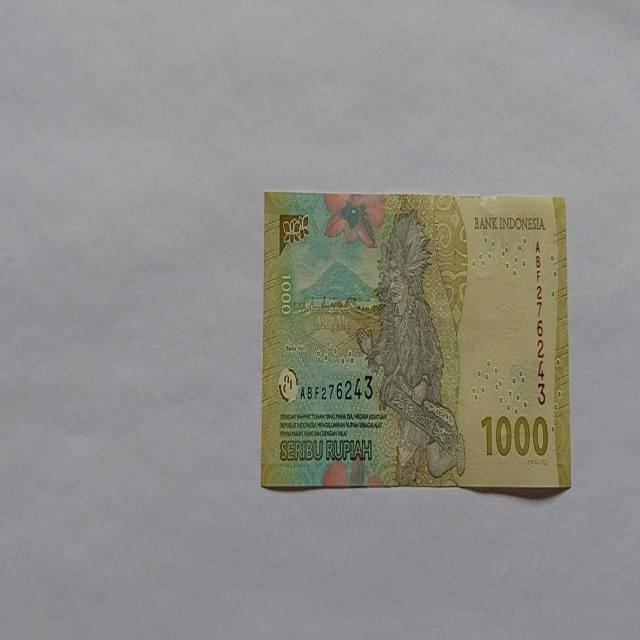seribu rupiah kertas: (260, 189, 570, 492)
